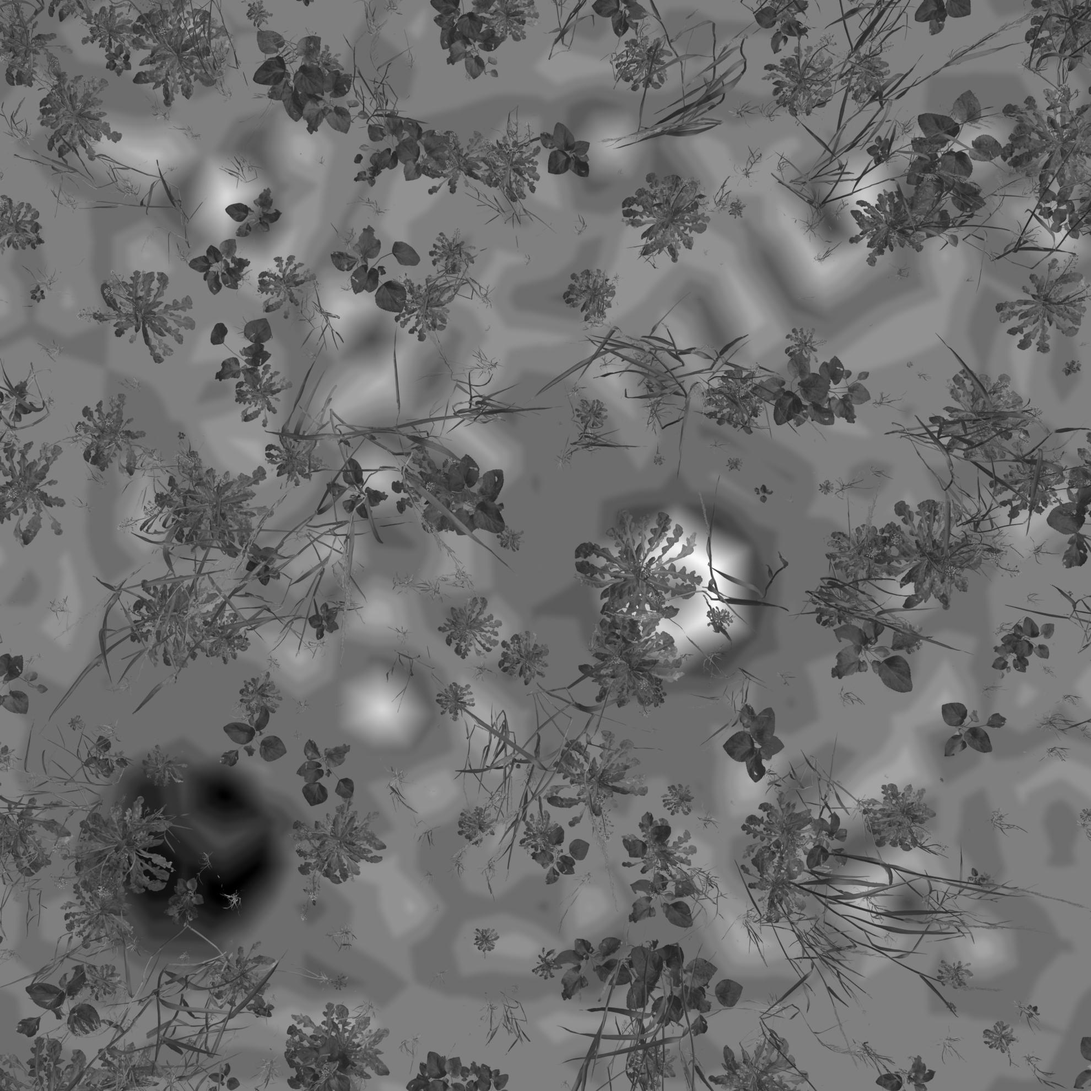landmine: (75, 749, 289, 949), (574, 491, 765, 684)
